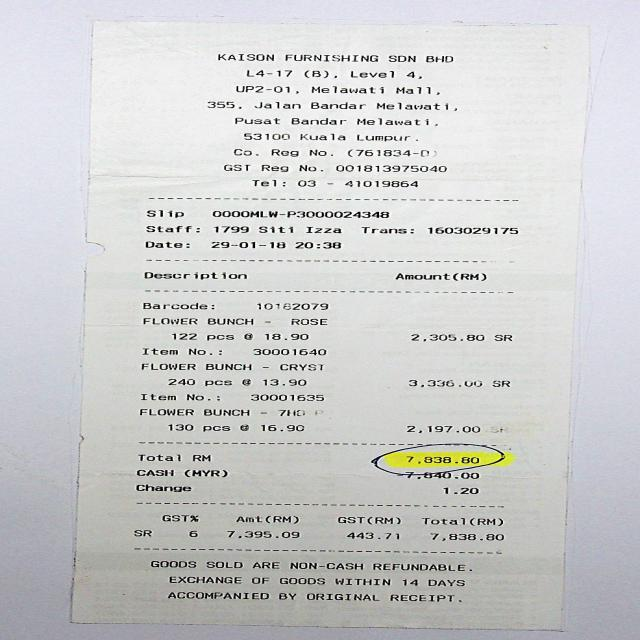text: (212, 210, 388, 218), (143, 271, 246, 279), (372, 563, 471, 571), (336, 165, 446, 172), (394, 272, 486, 280), (167, 592, 268, 599), (285, 54, 378, 61), (347, 149, 435, 156), (406, 425, 479, 433), (376, 102, 448, 110), (306, 593, 378, 601), (421, 518, 502, 525), (236, 85, 298, 94), (236, 515, 298, 524), (427, 227, 517, 233), (210, 241, 285, 248), (408, 380, 481, 387), (406, 456, 479, 463), (429, 533, 502, 540), (289, 562, 362, 569), (310, 86, 382, 93), (357, 118, 429, 125), (344, 180, 416, 187), (410, 334, 482, 341), (395, 472, 479, 478), (226, 531, 298, 538), (169, 576, 241, 583), (389, 594, 460, 601), (145, 561, 195, 570), (134, 484, 190, 492), (252, 349, 326, 355), (337, 517, 399, 524), (142, 303, 214, 309), (256, 304, 328, 310), (250, 394, 322, 400), (310, 102, 366, 109), (334, 578, 390, 585), (141, 363, 195, 370), (355, 134, 408, 141), (345, 532, 398, 539), (146, 225, 198, 232), (350, 70, 393, 78), (216, 54, 272, 60), (138, 409, 194, 415), (184, 469, 226, 477), (291, 118, 346, 124), (234, 117, 280, 124), (243, 133, 289, 140), (299, 133, 345, 140), (207, 318, 253, 325), (204, 363, 250, 370), (279, 577, 325, 584), (143, 318, 196, 324), (361, 227, 413, 233), (246, 70, 290, 77), (144, 241, 188, 248), (260, 424, 304, 431), (146, 210, 183, 218), (138, 454, 180, 461), (294, 242, 340, 248), (202, 409, 248, 415), (254, 102, 299, 108), (303, 70, 336, 78), (441, 487, 478, 494), (262, 379, 305, 385), (279, 364, 321, 370), (206, 561, 242, 568), (428, 579, 464, 586), (396, 86, 431, 93), (291, 318, 326, 325), (188, 348, 222, 355), (251, 180, 284, 187), (136, 470, 173, 476), (264, 334, 308, 339), (141, 348, 177, 354), (161, 515, 197, 521), (305, 226, 340, 232), (140, 394, 175, 400), (260, 164, 286, 172), (207, 102, 241, 108), (214, 226, 248, 232), (258, 226, 292, 232), (186, 394, 218, 400), (277, 409, 304, 416), (388, 55, 414, 62), (270, 149, 296, 156), (425, 56, 453, 62), (167, 378, 195, 384), (252, 562, 279, 568), (224, 164, 249, 170), (167, 424, 192, 430), (203, 380, 232, 385), (233, 149, 257, 155), (206, 335, 234, 340), (308, 149, 331, 155), (298, 165, 321, 171), (202, 426, 229, 431), (492, 380, 510, 387), (406, 71, 421, 79), (171, 334, 195, 339), (132, 530, 152, 536), (297, 180, 314, 187), (494, 334, 511, 341), (402, 579, 418, 586), (192, 455, 210, 461), (250, 577, 268, 583), (490, 426, 506, 432), (278, 593, 294, 599), (239, 424, 248, 430), (241, 379, 249, 385), (188, 530, 196, 536), (243, 334, 252, 339)
